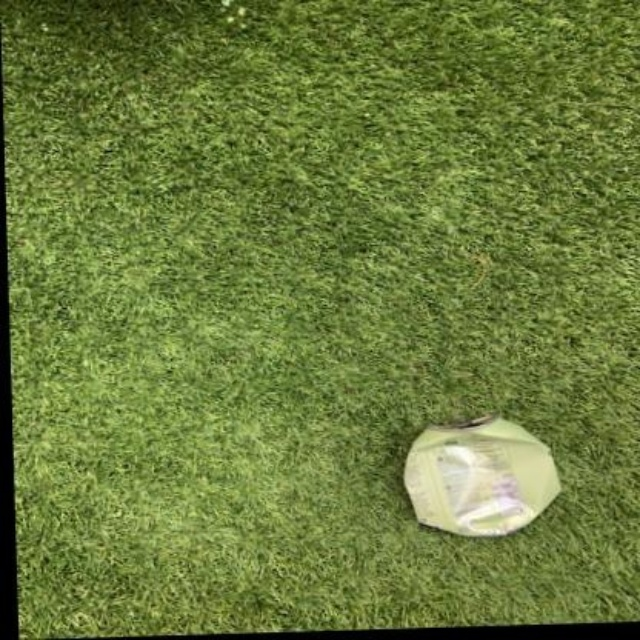trash: (405, 415, 560, 535)
